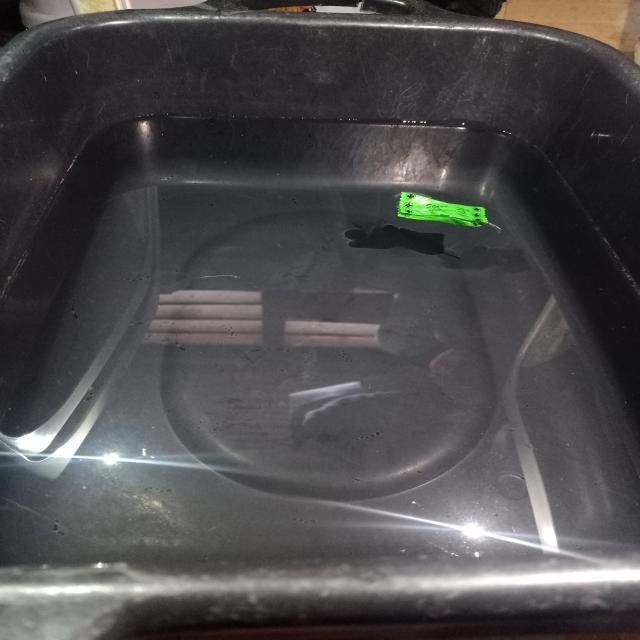Plastic Wrapper: (367, 168, 520, 245)
